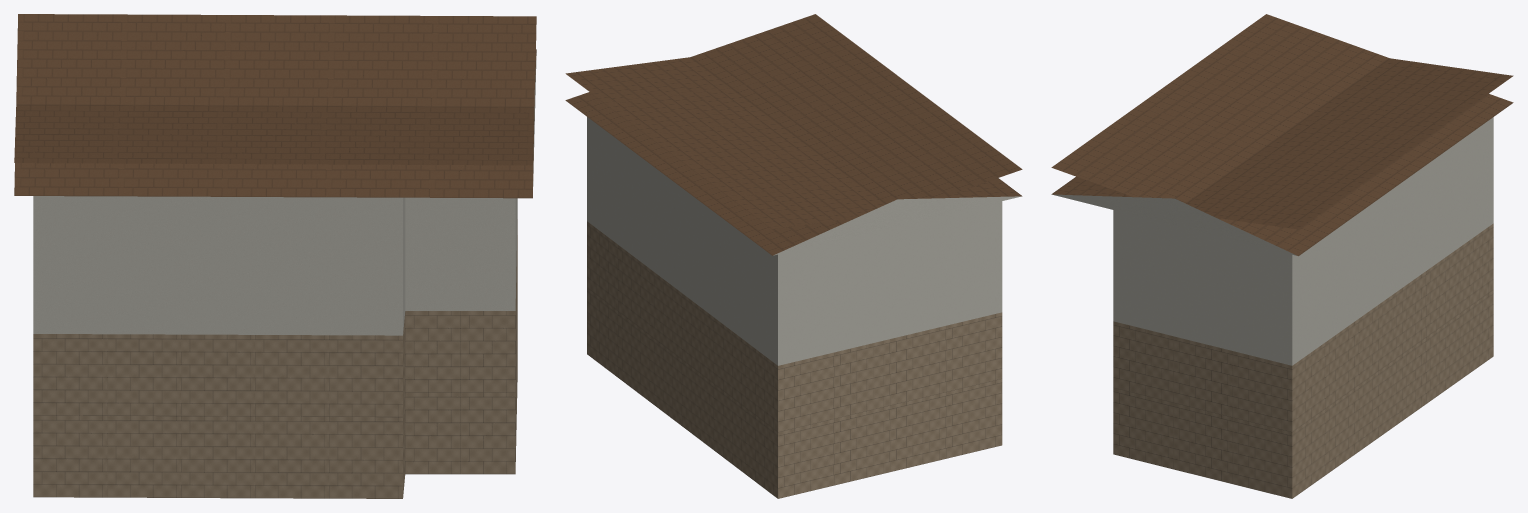
Rendered from bld_c15_23_408.gltf.
3 renders of one model, left to right at view 1: azimuth 30°, elevation 25°; view 2: azimuth 150°, elevation 25°; view 3: azimuth 270°, elevation 25°, orthographic. The views are drawn at different scales.
Visible parts, largest first — view 1: bld_c15_23_408; view 2: bld_c15_23_408; view 3: bld_c15_23_408.
Part boxes in pixels (bbox=[...]): bld_c15_23_408: bbox=[14, 14, 536, 498]; bld_c15_23_408: bbox=[565, 14, 1022, 498]; bld_c15_23_408: bbox=[1051, 14, 1513, 498].
Bounding box in the file's own units: 17.26 × 10.4 × 15.65.
Materials: 4 (4 with a texture image).
